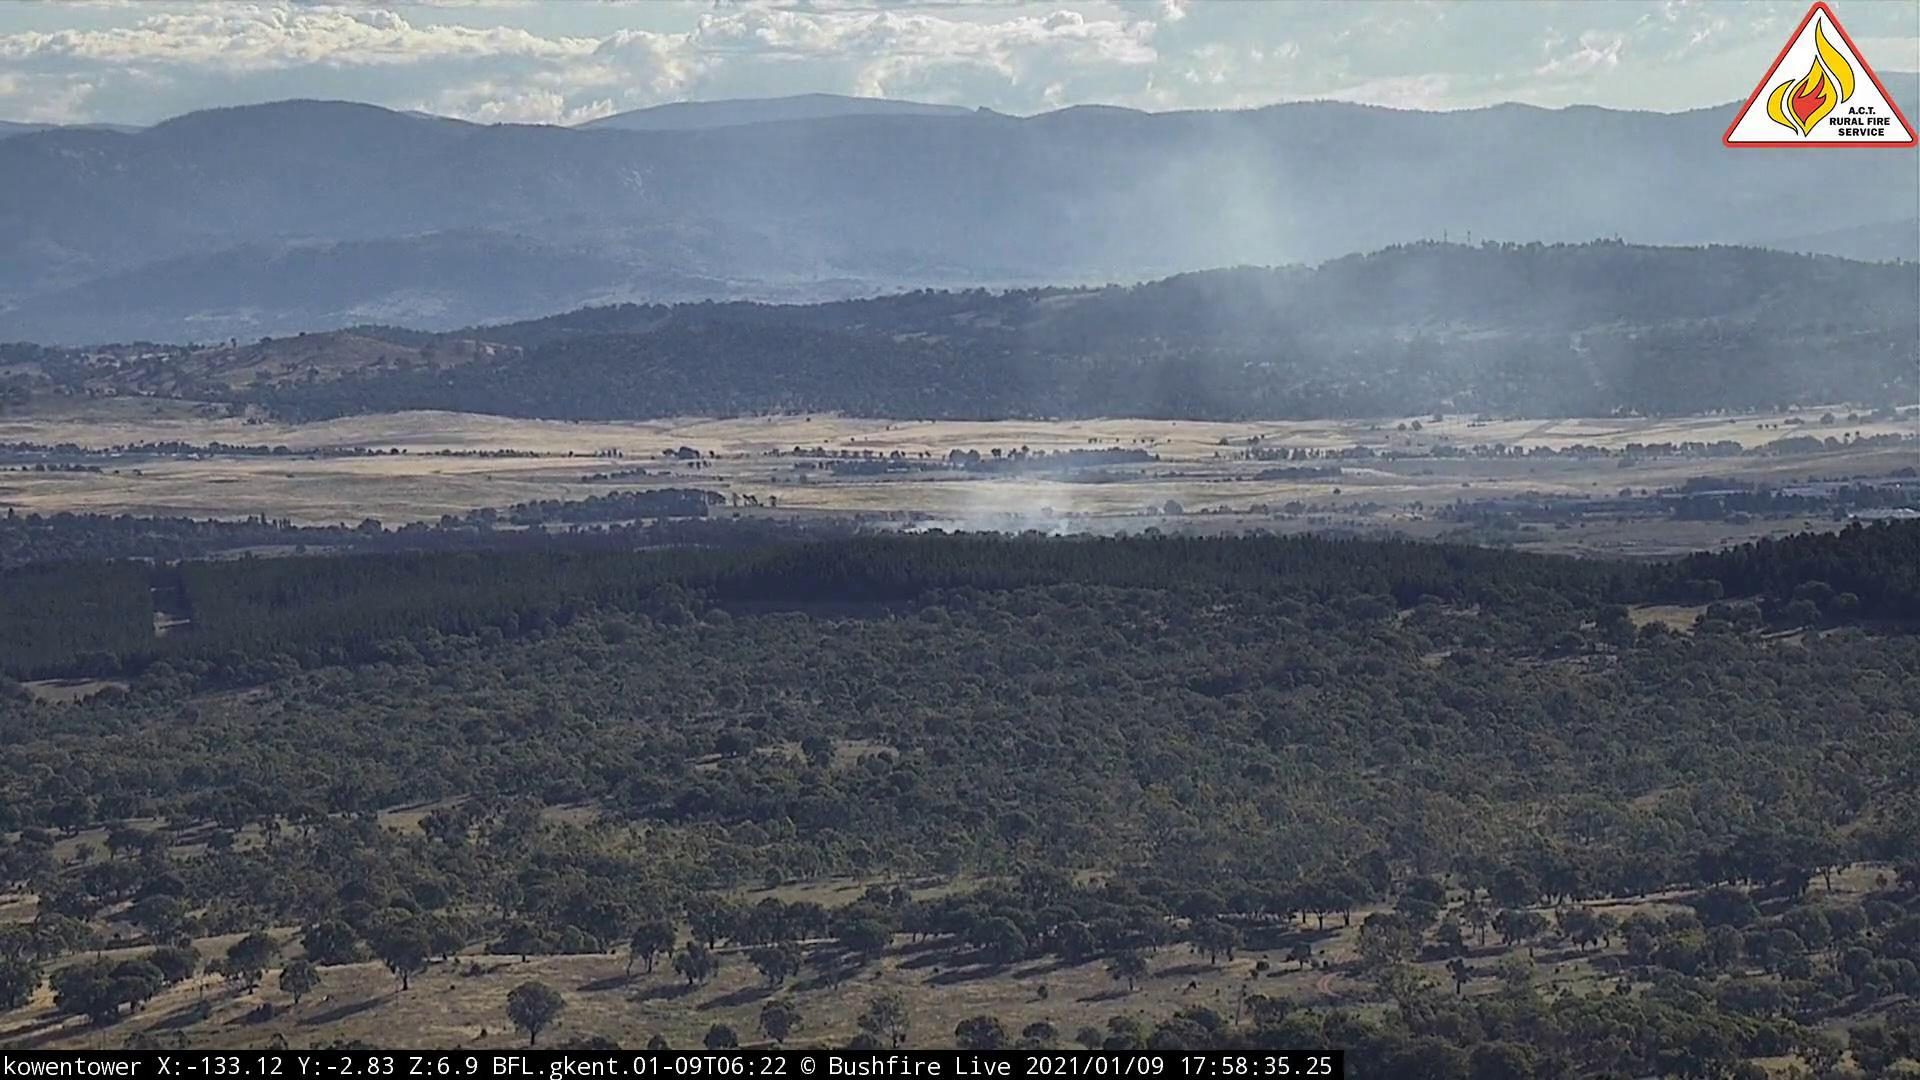Smoke: (903, 128, 1607, 545)
